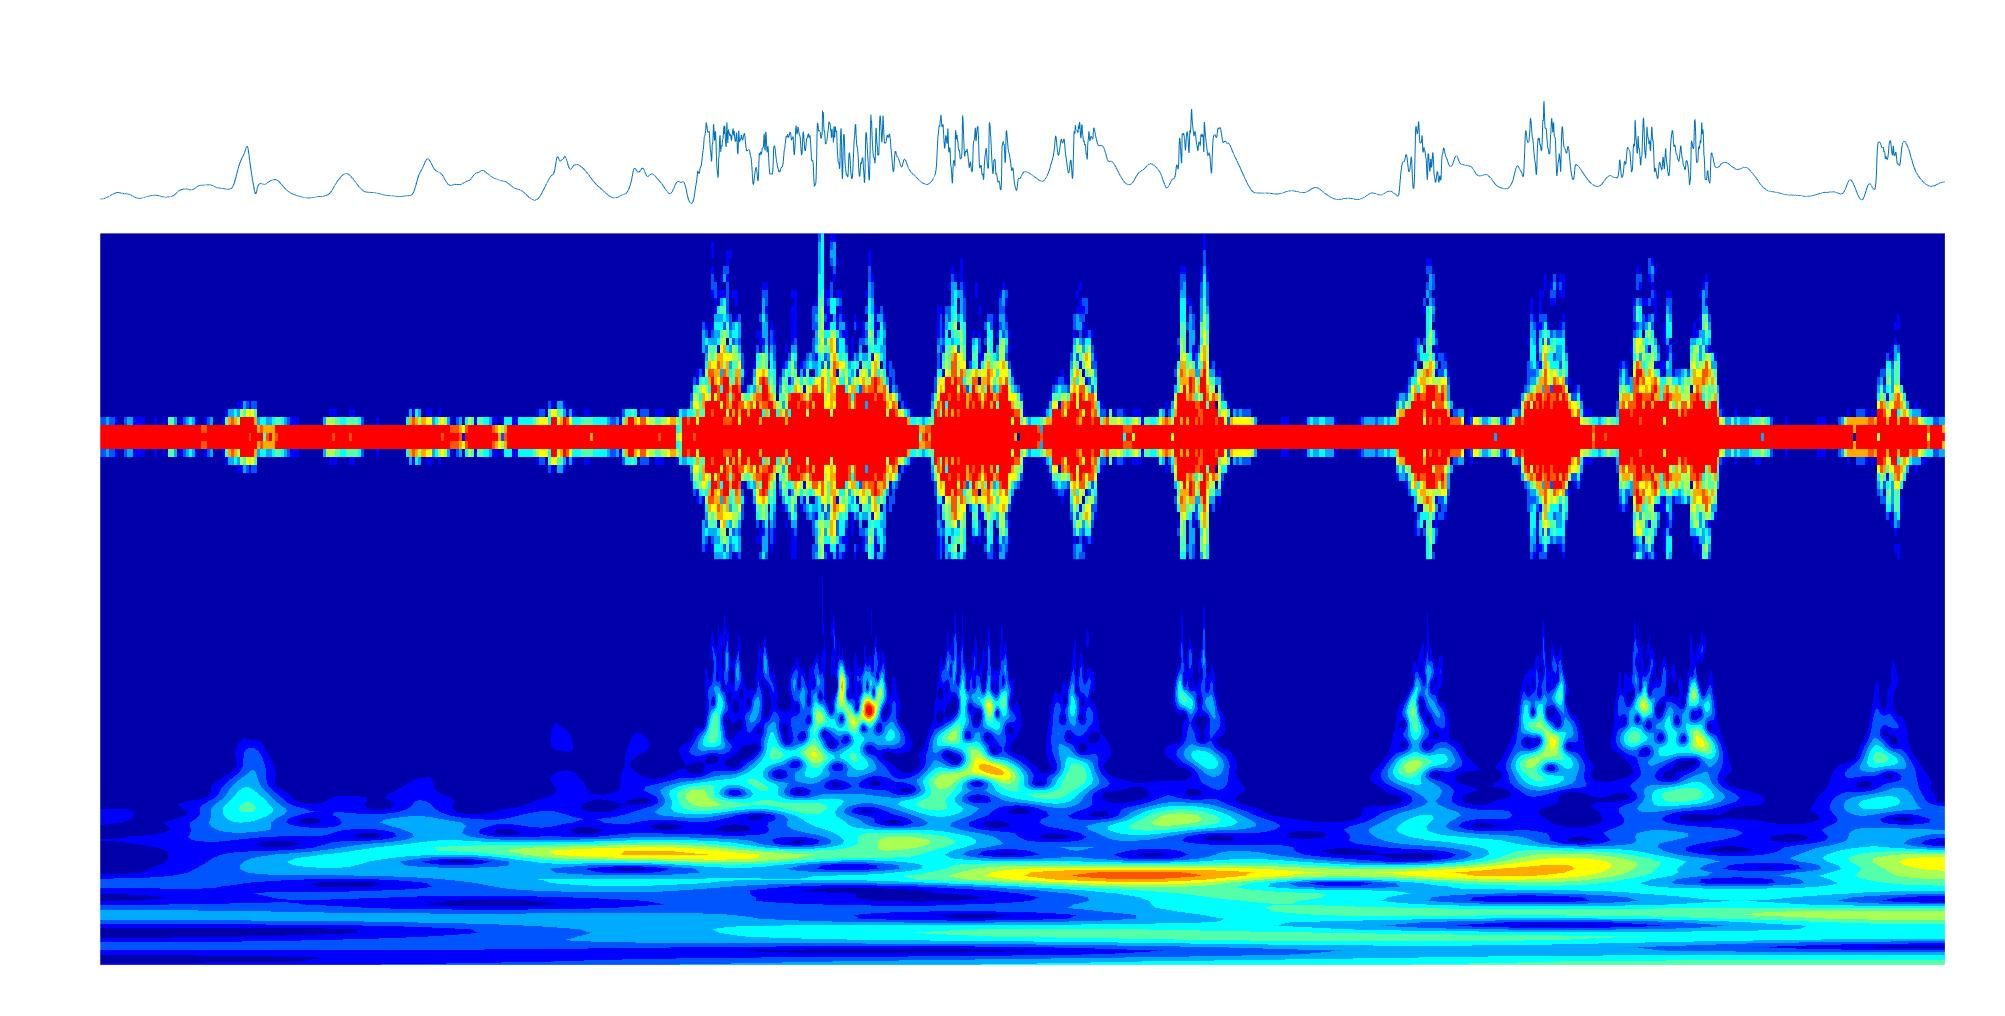TURBULENT: (694, 235, 892, 967), (1626, 235, 1720, 964), (935, 232, 1022, 962), (1515, 233, 1588, 960), (1859, 236, 1922, 960), (1400, 235, 1456, 964), (1048, 235, 1104, 962), (1168, 232, 1221, 962)
